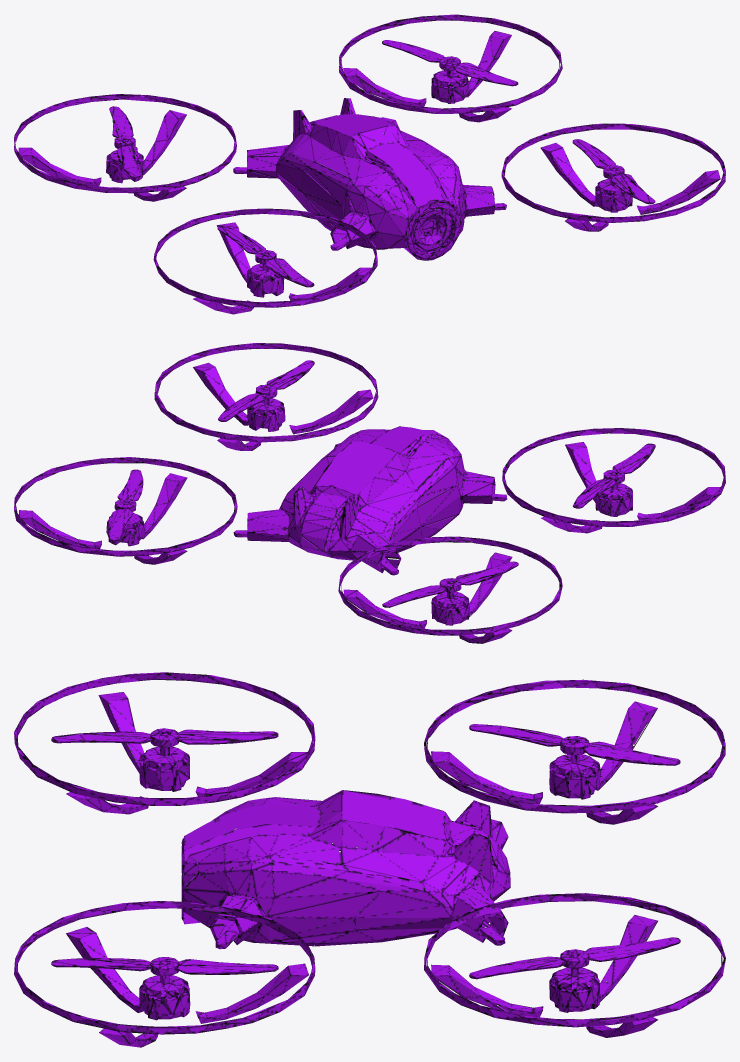
Rendered from Player.obj.
3 views of the same model, one above another, from view 1: azimuth 30°, elevation 25°; view 2: azimuth 150°, elevation 25°; view 3: azimuth 270°, elevation 25° (orthographic). The views are drawn at different scales.
Visible parts, largest first — view 1: X-Black_Drone__-_Drone-1; view 2: X-Black_Drone__-_Drone-1; view 3: X-Black_Drone__-_Drone-1.
Boxes of the visible parts, x1,y1,x2,y2 form: X-Black_Drone__-_Drone-1: [14, 14, 725, 314]; X-Black_Drone__-_Drone-1: [14, 343, 725, 643]; X-Black_Drone__-_Drone-1: [14, 672, 725, 1047].
Bounding box in the file's own units: 4.4 × 0.6873 × 3.72.
